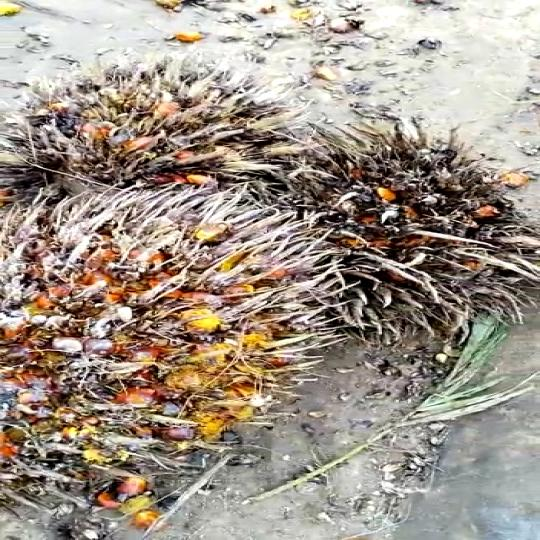terlalu masak: (0, 188, 340, 491), (252, 129, 524, 346), (0, 60, 295, 186)
